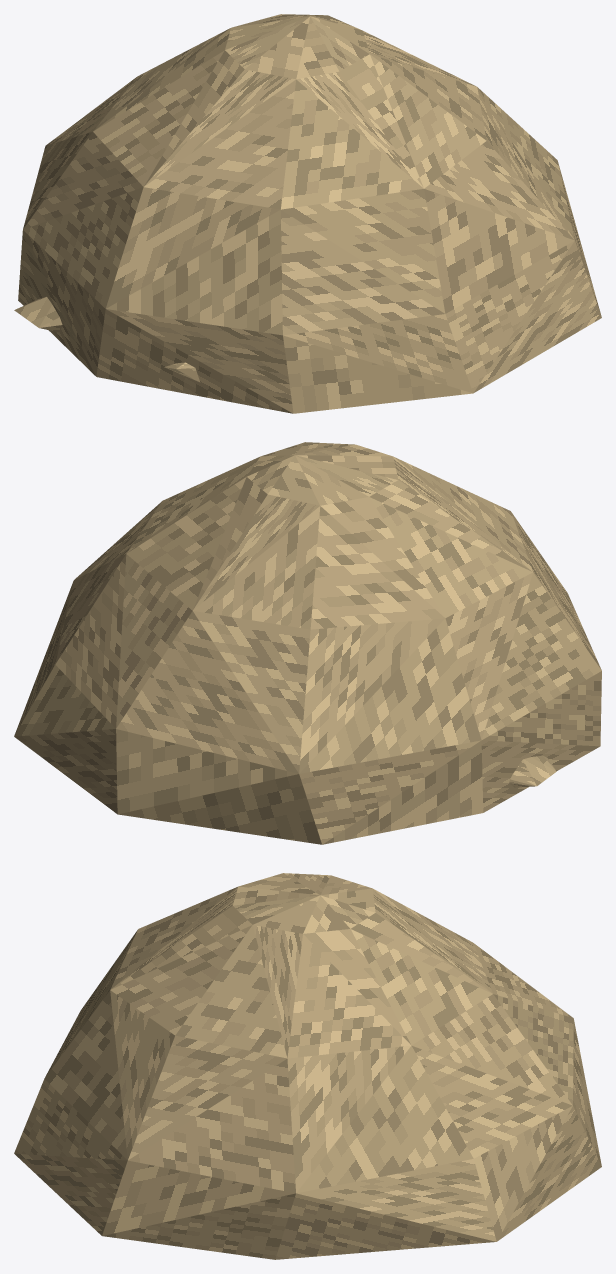
The model's file is f_sand_mound_short.glb.
The picture shows the model from 3 angles, top to bottom: view 1: azimuth 30°, elevation 25°; view 2: azimuth 150°, elevation 25°; view 3: azimuth 270°, elevation 25°; orthographic projection. The views are drawn at different scales.
Parts seen in each view (by area): view 1: block_heaped-sand, block_slumped-edge; view 2: block_heaped-sand, block_slumped-edge; view 3: block_heaped-sand.
Boxes of the visible parts, bbox=[...] form: block_heaped-sand: bbox=[18, 14, 601, 413]; block_slumped-edge: bbox=[14, 297, 62, 332]; block_heaped-sand: bbox=[14, 442, 601, 844]; block_slumped-edge: bbox=[509, 755, 556, 787]; block_heaped-sand: bbox=[14, 873, 601, 1259].
Bounding box in the file's own units: 0.8629 × 0.43 × 0.896.
Materials: 1 (1 with a texture image).
